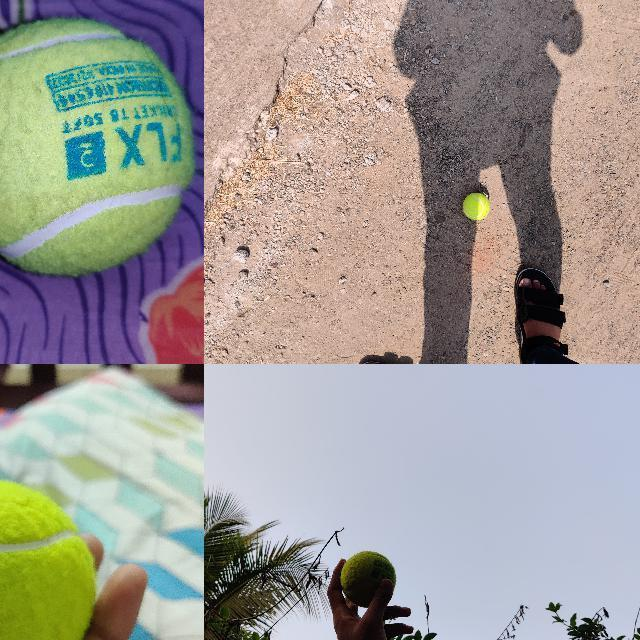tennis-ball: (0, 17, 195, 280), (0, 476, 97, 639), (338, 550, 396, 609), (463, 193, 490, 220)
